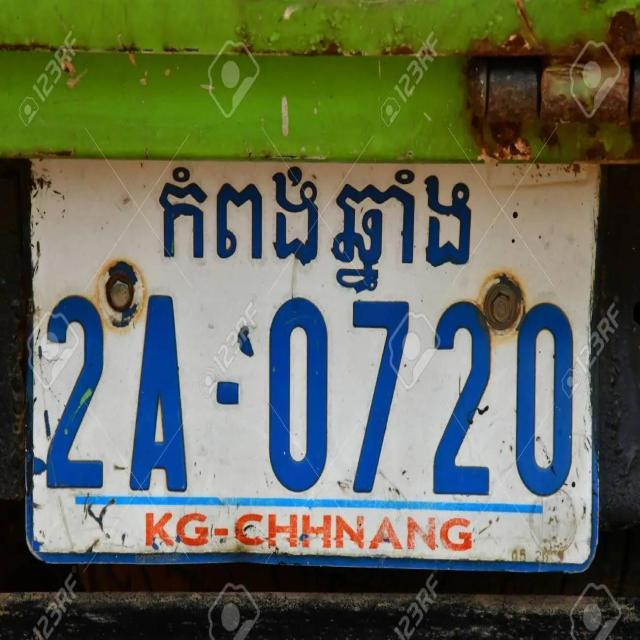Kampong_Chhnang: (158, 161, 476, 292)
